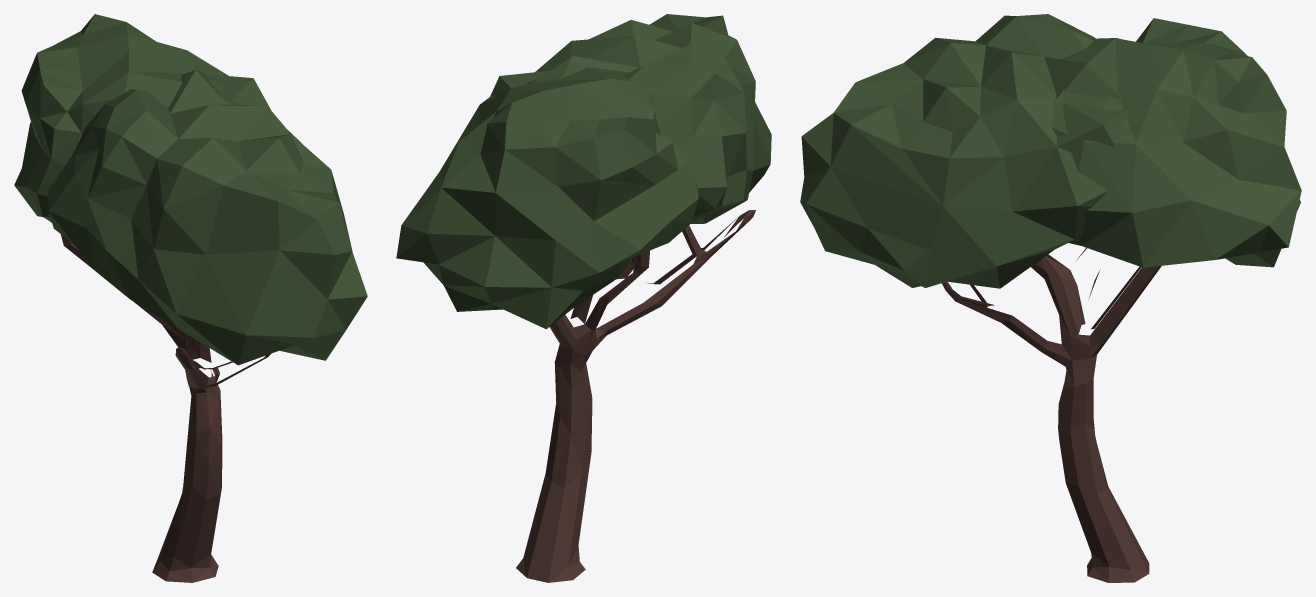
File: CommonTree_5.glb
3 renders of one model, left to right at view 1: azimuth 30°, elevation 25°; view 2: azimuth 150°, elevation 25°; view 3: azimuth 270°, elevation 25°, orthographic.
Visible parts, largest first — view 1: CommonTree_5_Cube.014; view 2: CommonTree_5_Cube.014; view 3: CommonTree_5_Cube.014.
Part boxes in pixels (x1,y1,x2,y2): CommonTree_5_Cube.014: (14,14,367,582); CommonTree_5_Cube.014: (396,14,771,582); CommonTree_5_Cube.014: (800,14,1301,582).
Bounding box in the file's own units: 1.29 × 2.52 × 2.25.
